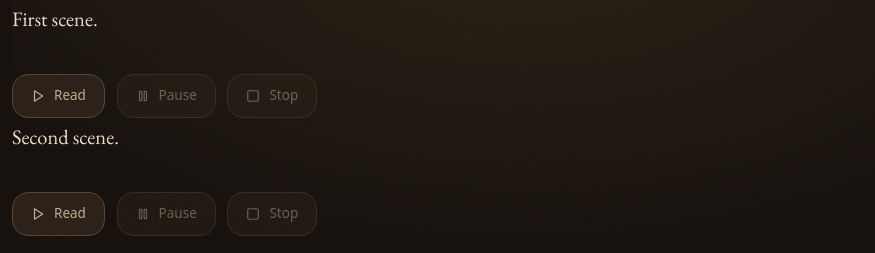
switches playback between messages without an inactive message cancelling the new voice
This screenshot has width=875, height=253.
Click the button "Read" below "First scene.": coordinates (58, 96) [12, 74, 105, 118]
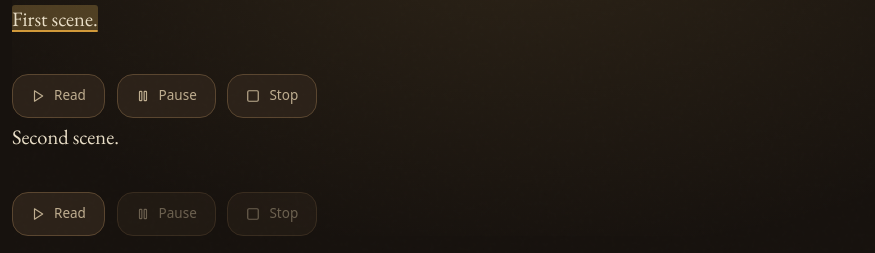
Click the button "Read" below "Second scene.": coordinates (58, 214) [12, 192, 105, 236]
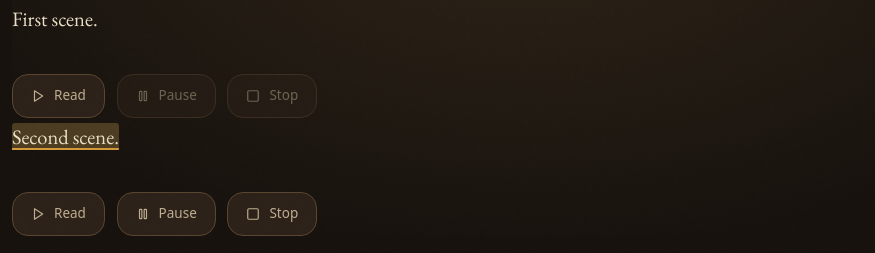
Check: the text "Second scene." is shown, box [12, 123, 119, 150]
